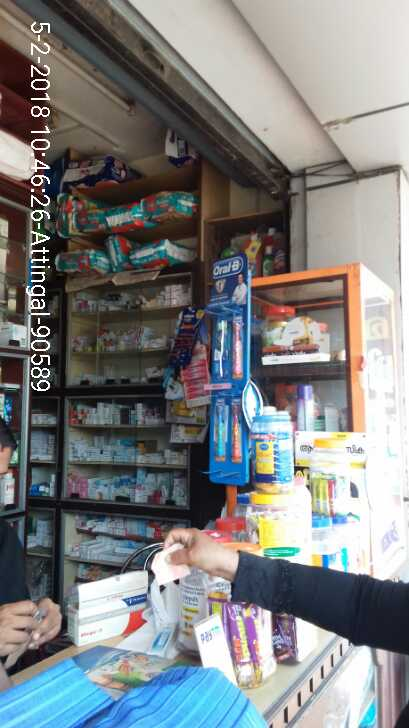pharmacy: (129, 239, 196, 268), (141, 192, 193, 219), (58, 250, 109, 276), (106, 203, 149, 231)
